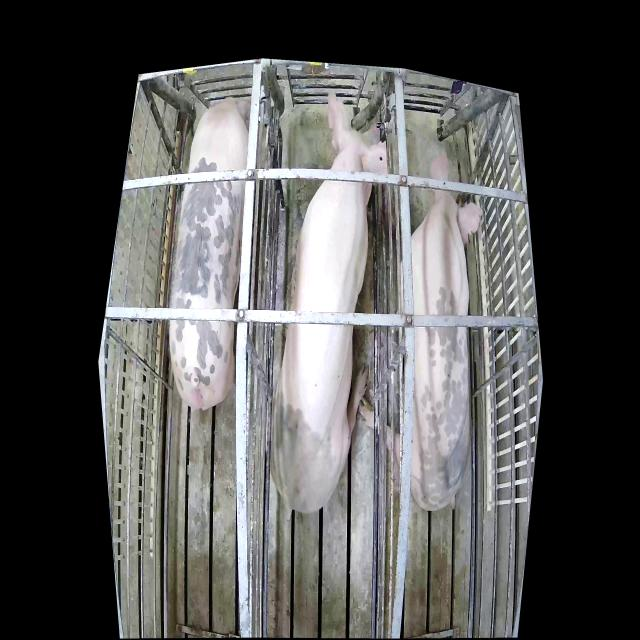pig: (270, 97, 388, 512), (361, 146, 482, 507), (166, 94, 250, 415)
